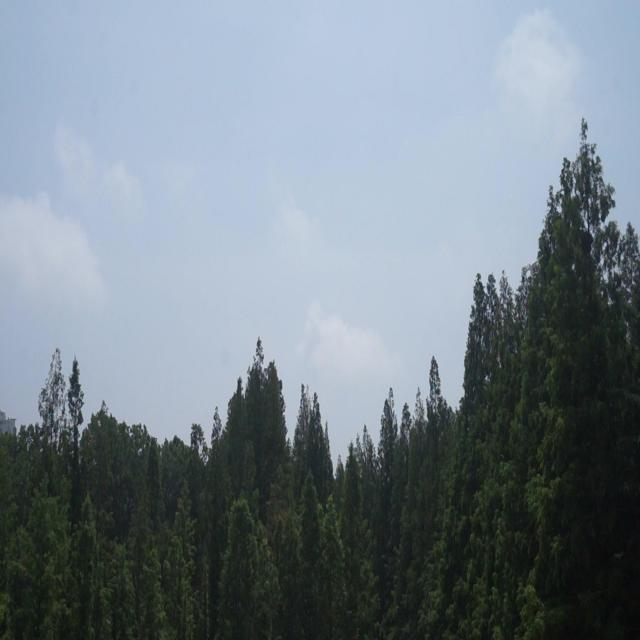UAV: (525, 255, 543, 275)
